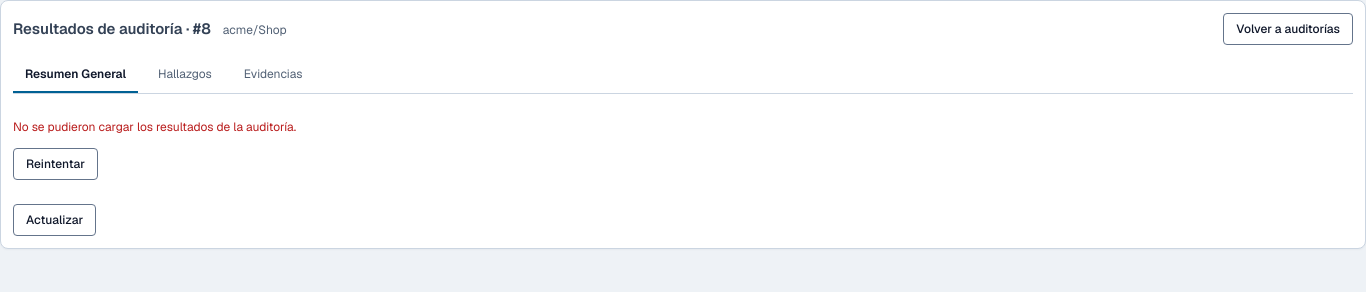
Scenario: dedicated audit results › retries metadata errors from the findings tab without navigating away
The width and height of the screenshot is (1366, 292).
Expected: the message "No se pudieron cargar los resultados de la auditoría. Reintentar" is shown, [13,119,296,180]
Click the tab "Hallazgos": click(185, 75) [146,57,224,93]
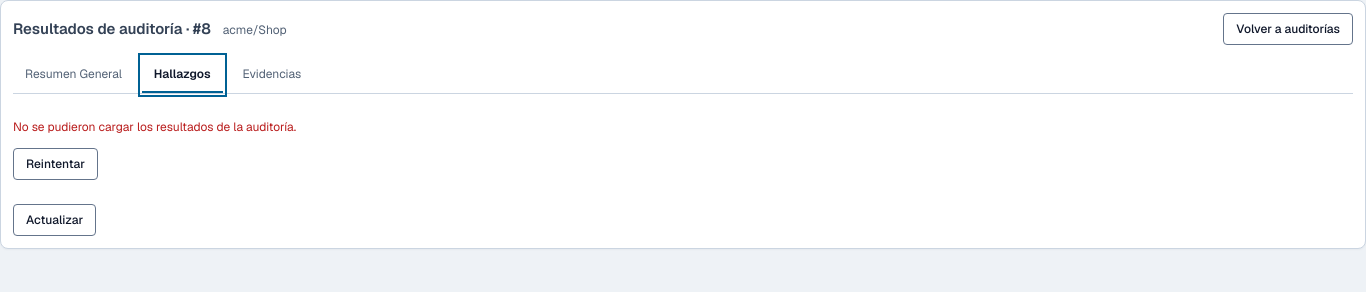
Click the button "Reintentar": click(56, 164) [13,148,98,180]
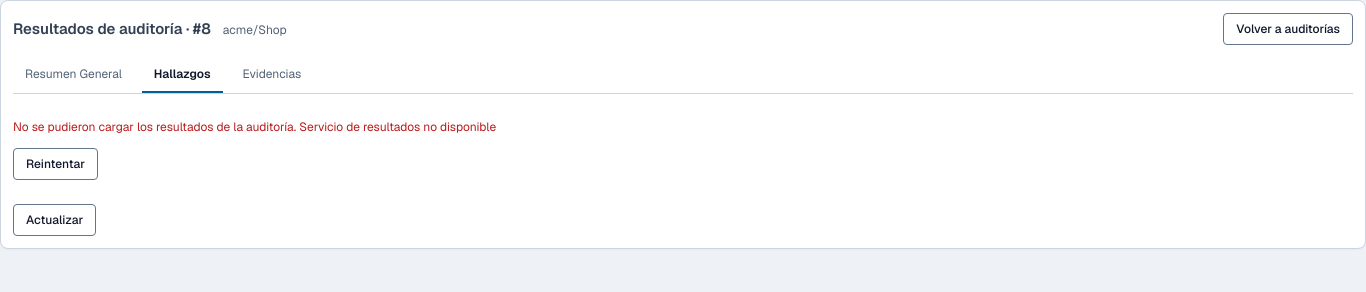
Now the message shows "Servicio de resultados no disponible", box [13,119,496,135]
Click the button "Reintentar": click(56, 164) [13,148,98,180]
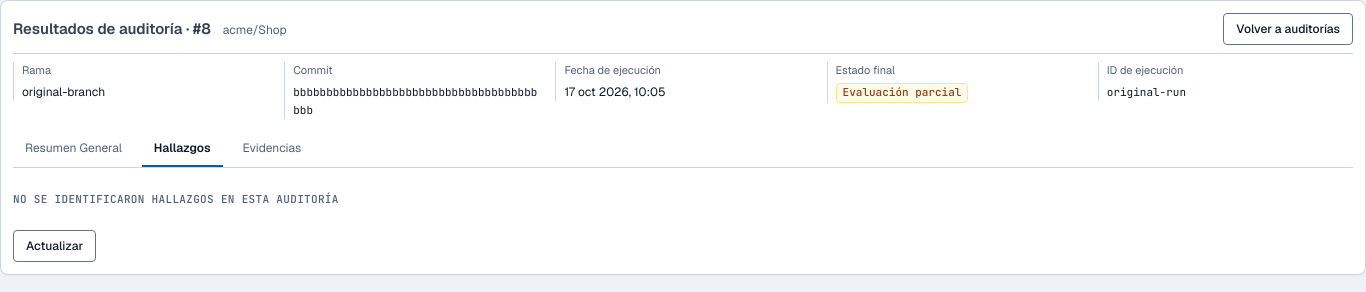
Now the text "No se identificaron hallazgos en esta auditoría" is shown, box [13,192,339,206]
Now the text "original-branch" is shown, box [22,84,105,100]
